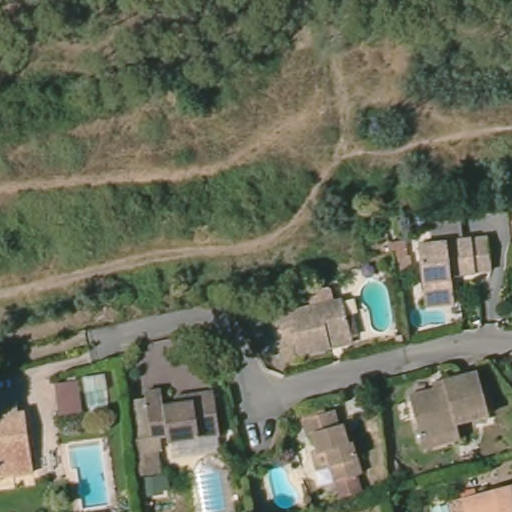pool: (64, 439, 114, 507), (356, 277, 395, 338), (263, 460, 305, 509), (188, 454, 231, 501), (408, 297, 453, 332)
